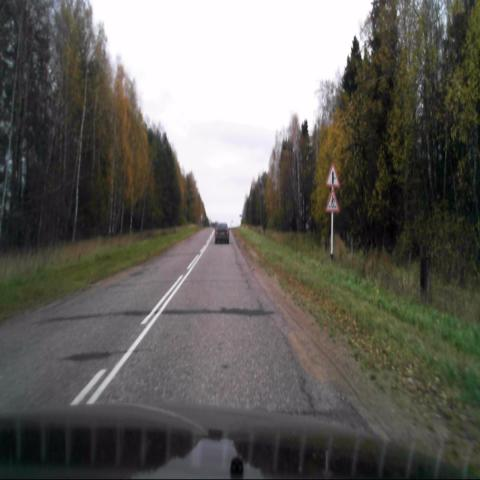2_3_2: (326, 163, 340, 188)
